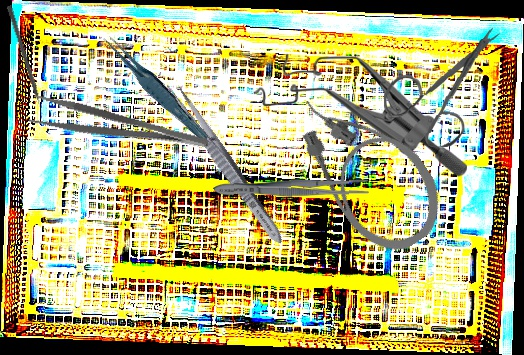Cannula: (280, 66, 458, 268)
Dressing Forceps: (161, 78, 290, 249), (27, 91, 211, 167), (213, 177, 370, 199)
Iris Scissors: (381, 22, 501, 150)
Pusher: (5, 5, 46, 117)
Speculum: (253, 52, 467, 178)
Tissue Forceps: (100, 24, 210, 150)
